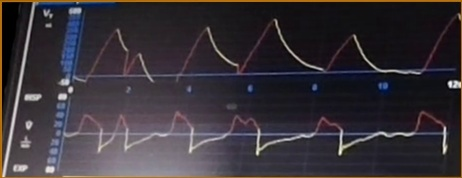Double_Triggering Flow: (70, 101, 450, 163)
Double_Triggering Volume: (84, 9, 461, 81)
